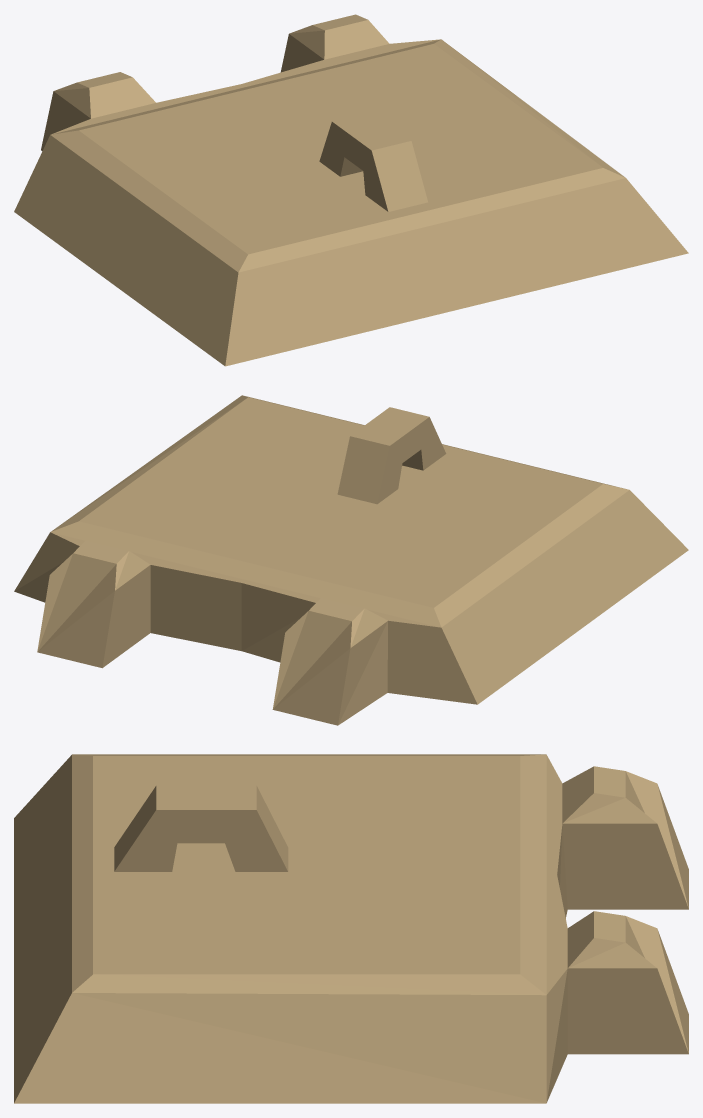
File: obj_trapdoor_7_0.obj
3 renders of one model, top to bottom at view 1: azimuth 30°, elevation 25°; view 2: azimuth 150°, elevation 25°; view 3: azimuth 270°, elevation 25°, orthographic. The views are drawn at different scales.
Size of the model in its own units: 1 by 0.2578 by 1.
